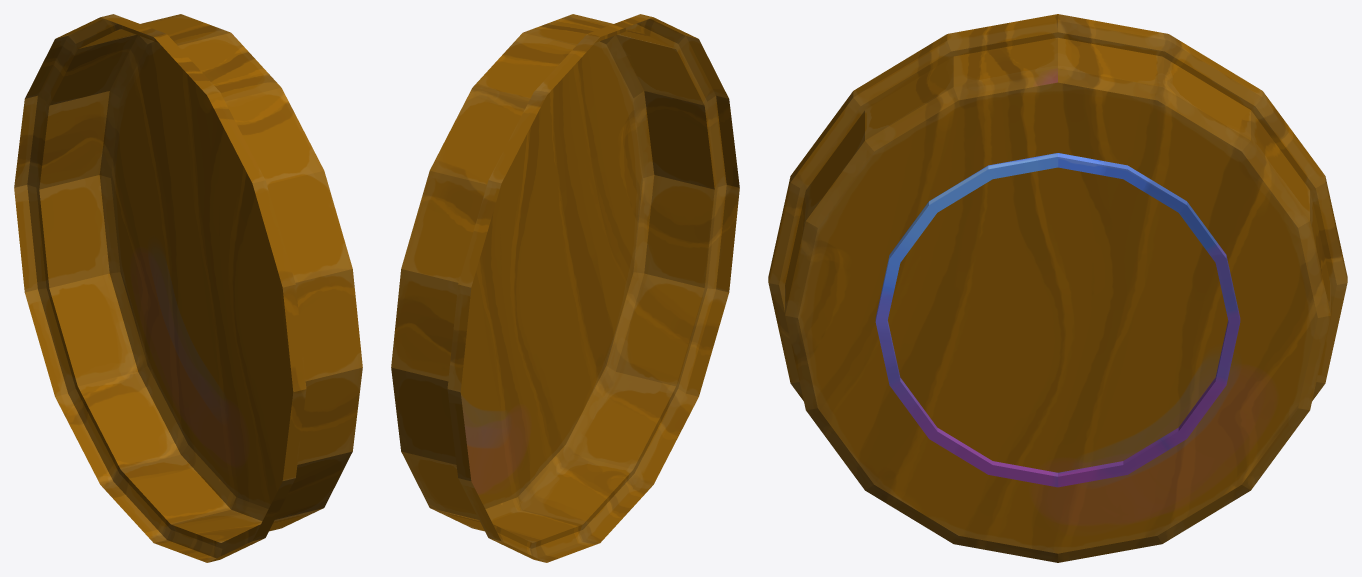
Rendered from ButtonBase (3).fbx.
3 renders of one model, left to right at view 1: azimuth 30°, elevation 25°; view 2: azimuth 150°, elevation 25°; view 3: azimuth 270°, elevation 25°, orthographic. The views are drawn at different scales.
Parts seen in each view (by area): view 1: button.002; view 2: button.002; view 3: button.002, button.
Part boxes in pixels (x1=…): button.002: x1=14, y1=14, x2=362, y2=562; button.002: x1=391, y1=14, x2=739, y2=562; button.002: x1=768, y1=14, x2=1347, y2=562; button: x1=875, y1=153, x2=1240, y2=487.
Size of the model in its own units: 10.82 by 57.86 by 57.86.
